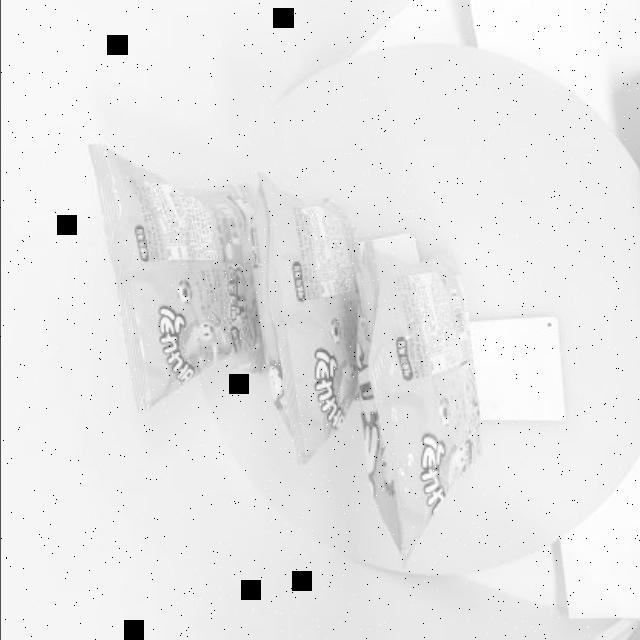snack_bag: (68, 137, 490, 577)
